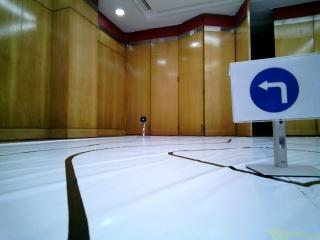left: (233, 63, 311, 114)
